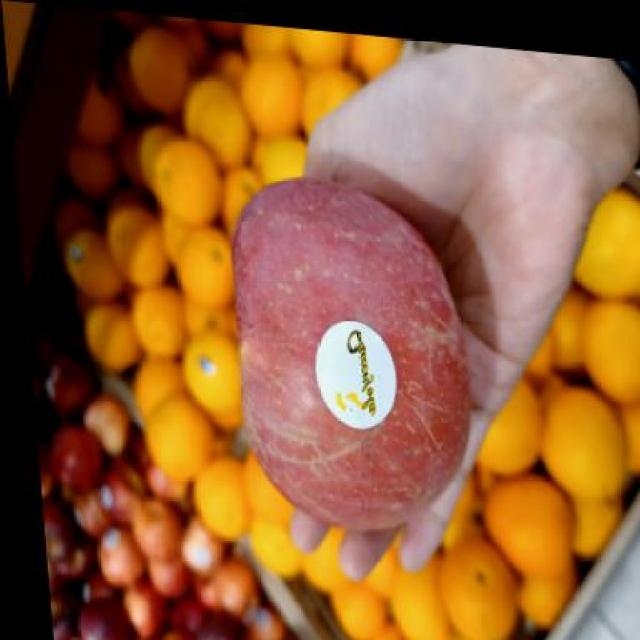Fresh Apple: (240, 194, 454, 520)
